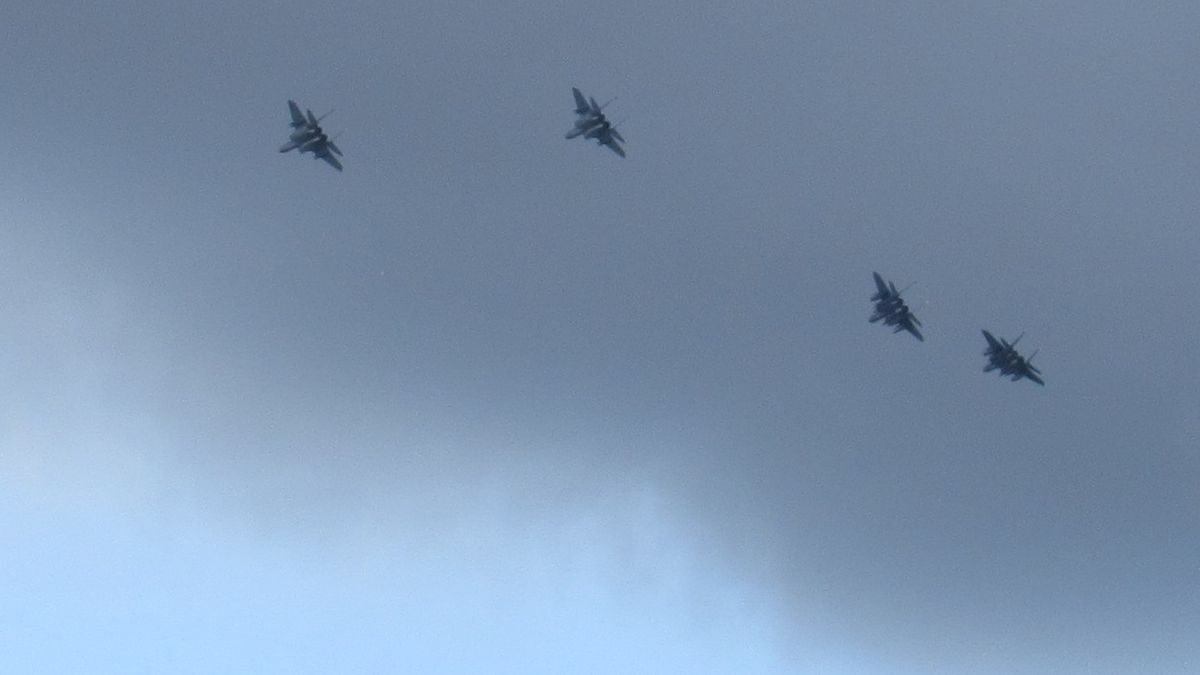plane: (278, 99, 347, 174), (564, 85, 628, 159), (868, 267, 923, 342), (978, 327, 1044, 388)
